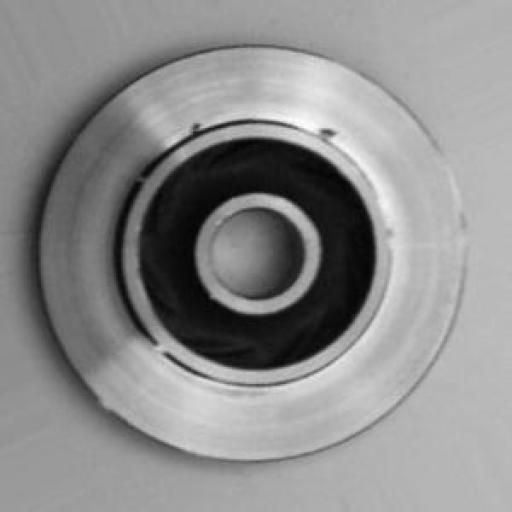defect: (131, 106, 364, 158)
